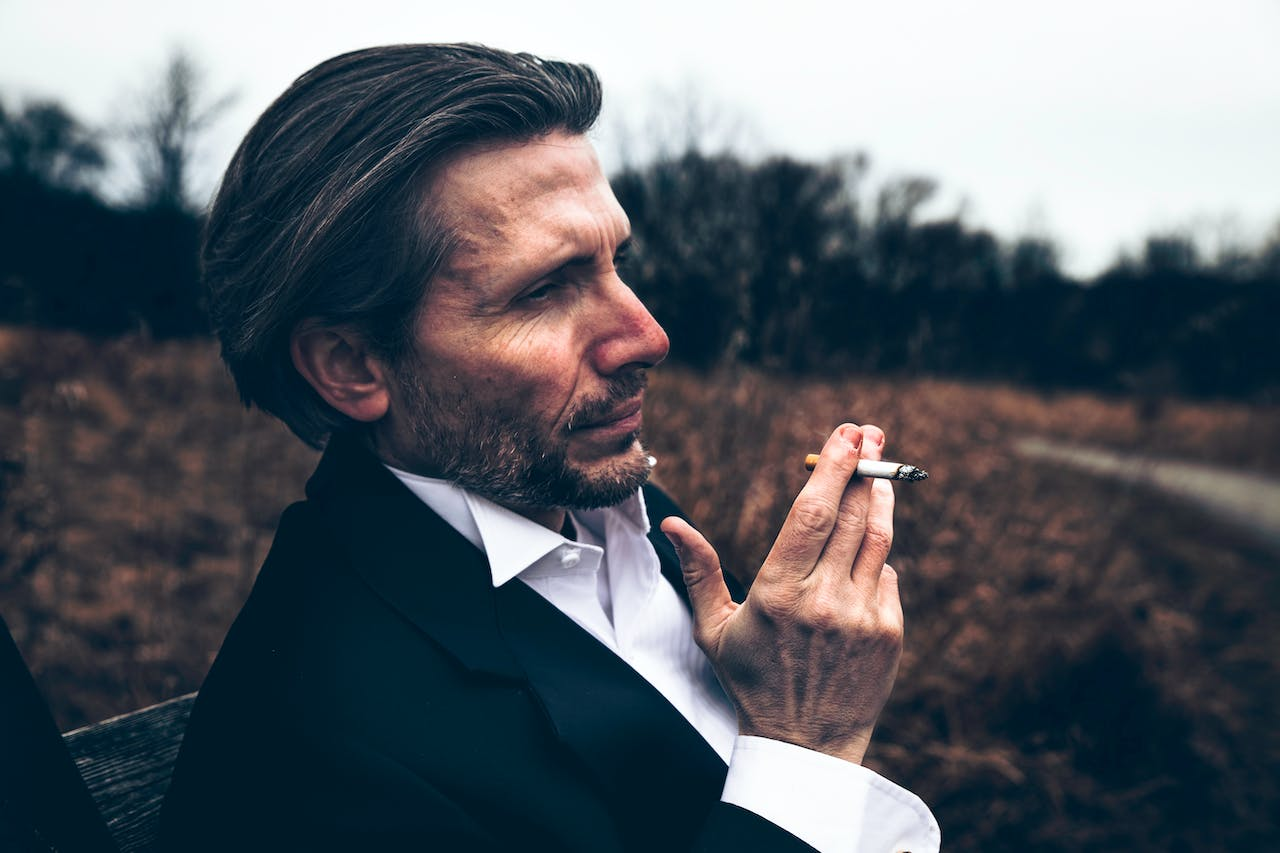Cigarette: (805, 453, 928, 482)
